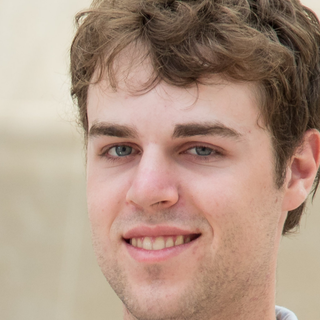eye: (168, 138, 232, 167), (91, 135, 148, 167)
